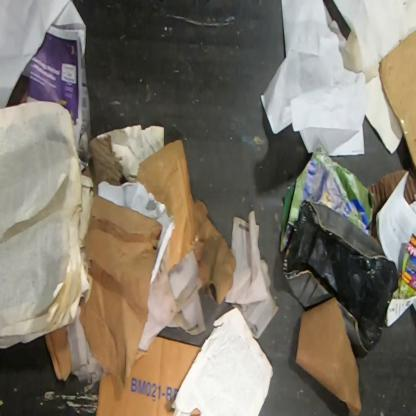cardboard: (136, 139, 236, 305), (79, 196, 162, 391), (280, 140, 374, 252), (95, 336, 201, 415), (295, 296, 363, 415), (379, 29, 415, 172), (366, 167, 415, 255), (46, 324, 72, 381)
